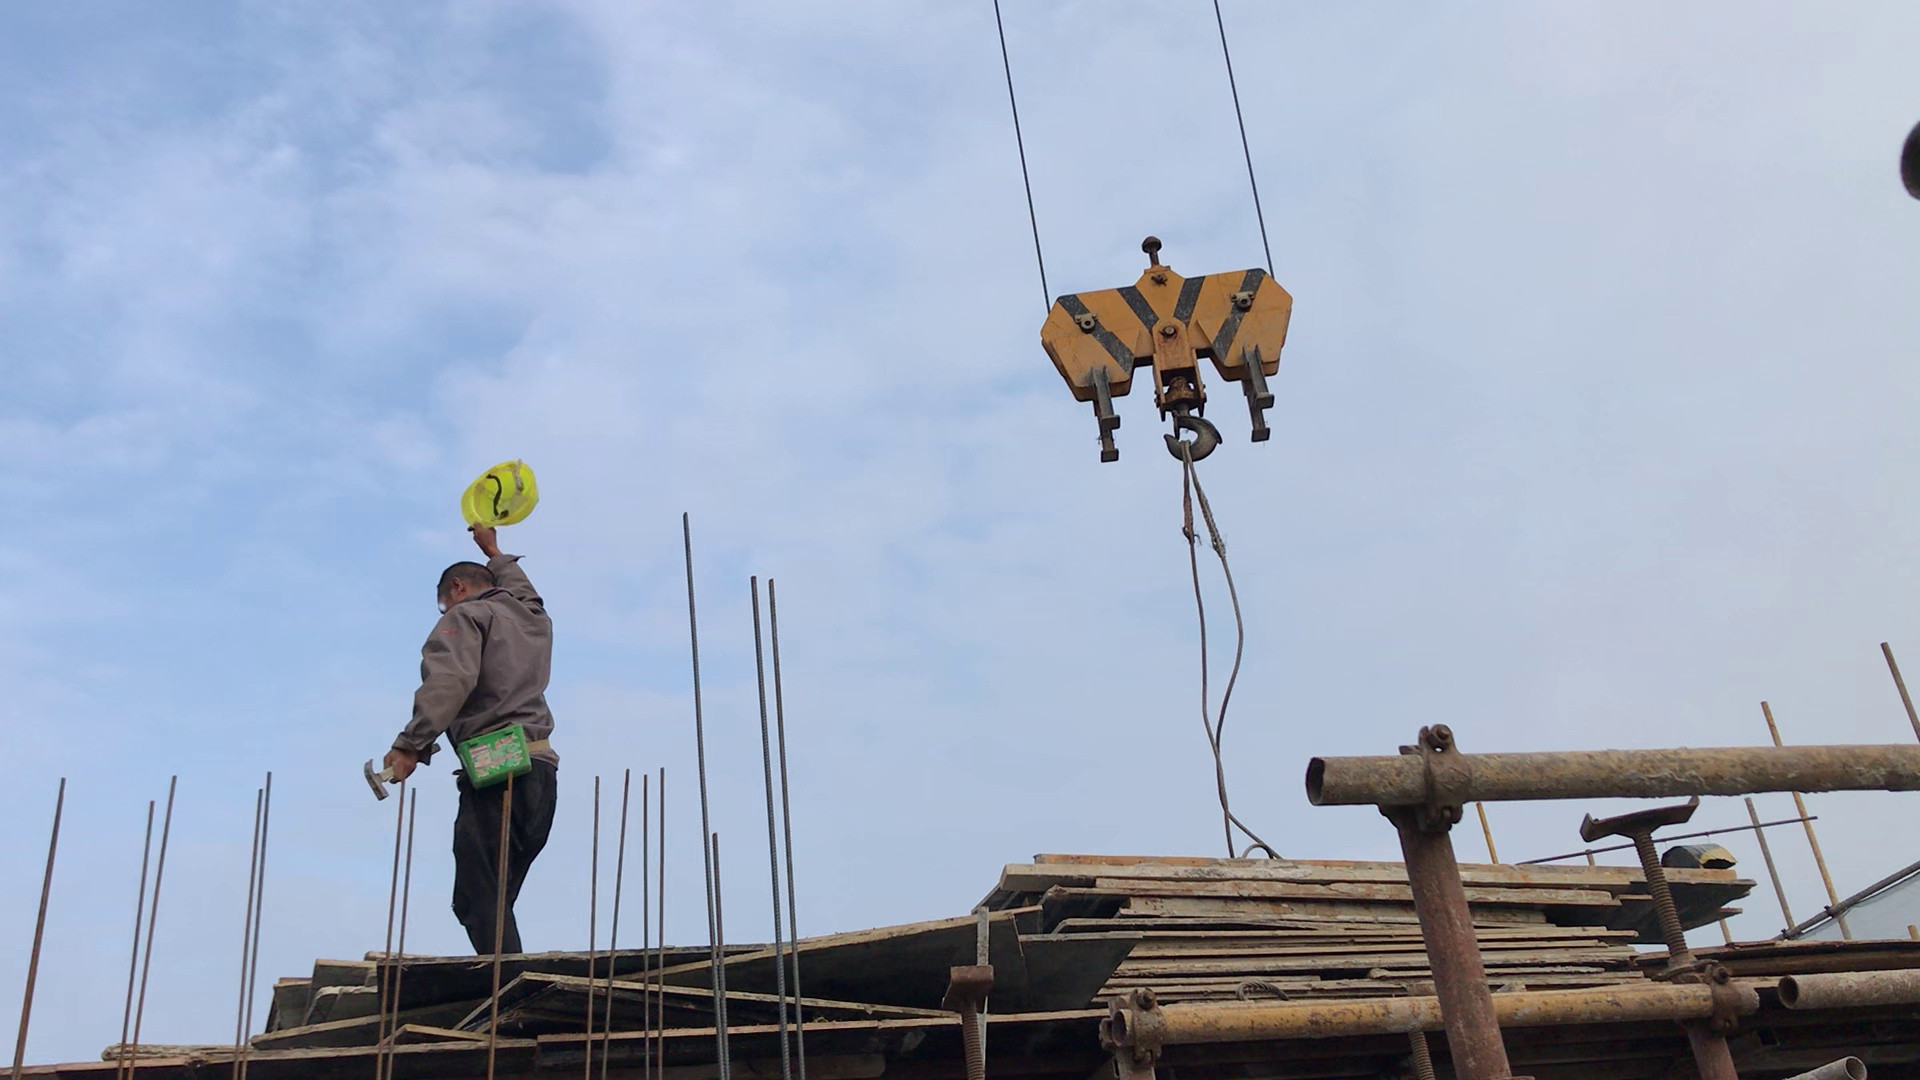board: (992, 822, 1725, 993)
helmet: (448, 450, 551, 538)
hook: (1023, 223, 1318, 464)
person: (347, 448, 603, 960)
